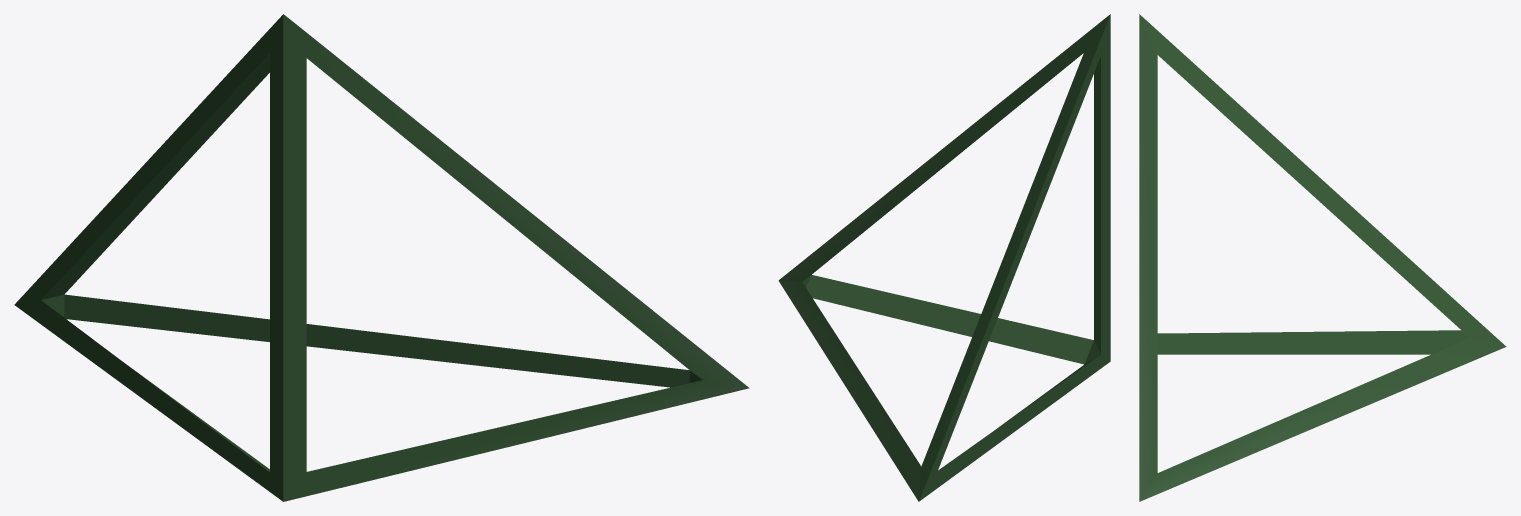
Rendered from glass-corner.glb.
3 renders of one model, left to right at view 1: azimuth 30°, elevation 25°; view 2: azimuth 150°, elevation 25°; view 3: azimuth 270°, elevation 25°, orthographic. The views are drawn at different scales.
Parts seen in each view (by area): view 1: glass-corner; view 2: glass-corner; view 3: glass-corner.
Boxes of the visible parts, box(x1,y1,x2,y2) form: glass-corner: box(14, 14, 749, 501); glass-corner: box(778, 14, 1110, 501); glass-corner: box(1139, 14, 1506, 501).
Size of the model in its own units: 1 by 1 by 1.
